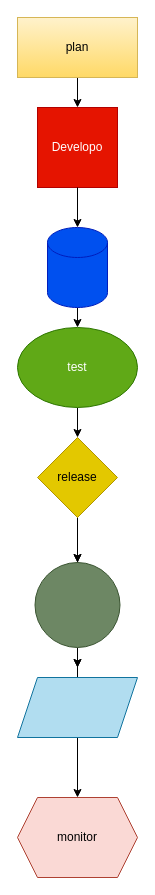
Some shapes in this 155 by 895 pixel diagram are drawn without their labels. Each missing label, with the box of its shape:
build: (46, 226, 108, 308)
deploy: (34, 562, 120, 648)
operate: (16, 676, 138, 738)
